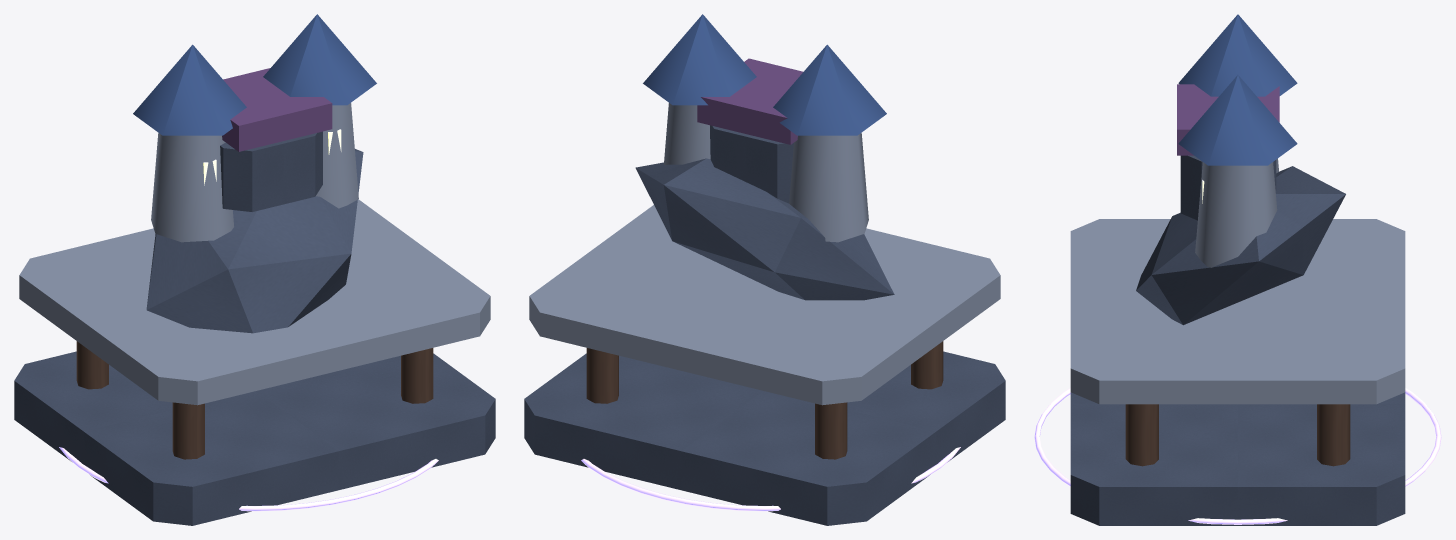
The model's file is station-04.glb.
3 renders of one model, left to right at view 1: azimuth 30°, elevation 25°; view 2: azimuth 150°, elevation 25°; view 3: azimuth 270°, elevation 25°, orthographic.
Visible parts, largest first — view 1: ProjectStation_04_stone, ProjectStation_04_edge, Artifact_04_stone, Artifact_04_blue, Artifact_04_edge, Artifact_04_violet, ProjectStation_04_wood, ProjectStation_04_rune; view 2: ProjectStation_04_edge, ProjectStation_04_stone, Artifact_04_stone, Artifact_04_blue, Artifact_04_edge, Artifact_04_violet, ProjectStation_04_wood, ProjectStation_04_rune; view 3: ProjectStation_04_edge, ProjectStation_04_stone, Artifact_04_stone, Artifact_04_blue, Artifact_04_edge, ProjectStation_04_wood, ProjectStation_04_rune, Artifact_04_violet.
Part boxes in pixels (box(x1,y1,x2,y2)): ProjectStation_04_stone: box(14, 351, 495, 525); ProjectStation_04_edge: box(19, 199, 490, 405); Artifact_04_stone: box(146, 131, 363, 333); Artifact_04_blue: box(133, 14, 376, 135); Artifact_04_edge: box(151, 103, 358, 242); Artifact_04_violet: box(222, 68, 332, 151); ProjectStation_04_wood: box(76, 341, 433, 459); ProjectStation_04_rune: box(59, 447, 438, 511); ProjectStation_04_edge: box(529, 205, 1000, 405); ProjectStation_04_stone: box(524, 351, 1005, 525); Artifact_04_stone: box(635, 125, 894, 300); Artifact_04_blue: box(643, 14, 886, 135); Artifact_04_edge: box(664, 103, 868, 242); Artifact_04_violet: box(697, 58, 803, 144); ProjectStation_04_wood: box(586, 341, 943, 459); ProjectStation_04_rune: box(581, 447, 960, 511); ProjectStation_04_edge: box(1070, 219, 1405, 404); ProjectStation_04_stone: box(1070, 392, 1405, 525); Artifact_04_stone: box(1136, 155, 1345, 325); Artifact_04_blue: box(1178, 14, 1297, 165); Artifact_04_edge: box(1195, 158, 1278, 267); ProjectStation_04_wood: box(1125, 404, 1350, 466); ProjectStation_04_rune: box(1034, 388, 1441, 524); Artifact_04_violet: box(1177, 84, 1279, 155).
Size of the model in its own units: 1.7 by 1.84 by 1.7.
Materials: 7 (2 with a texture image).
